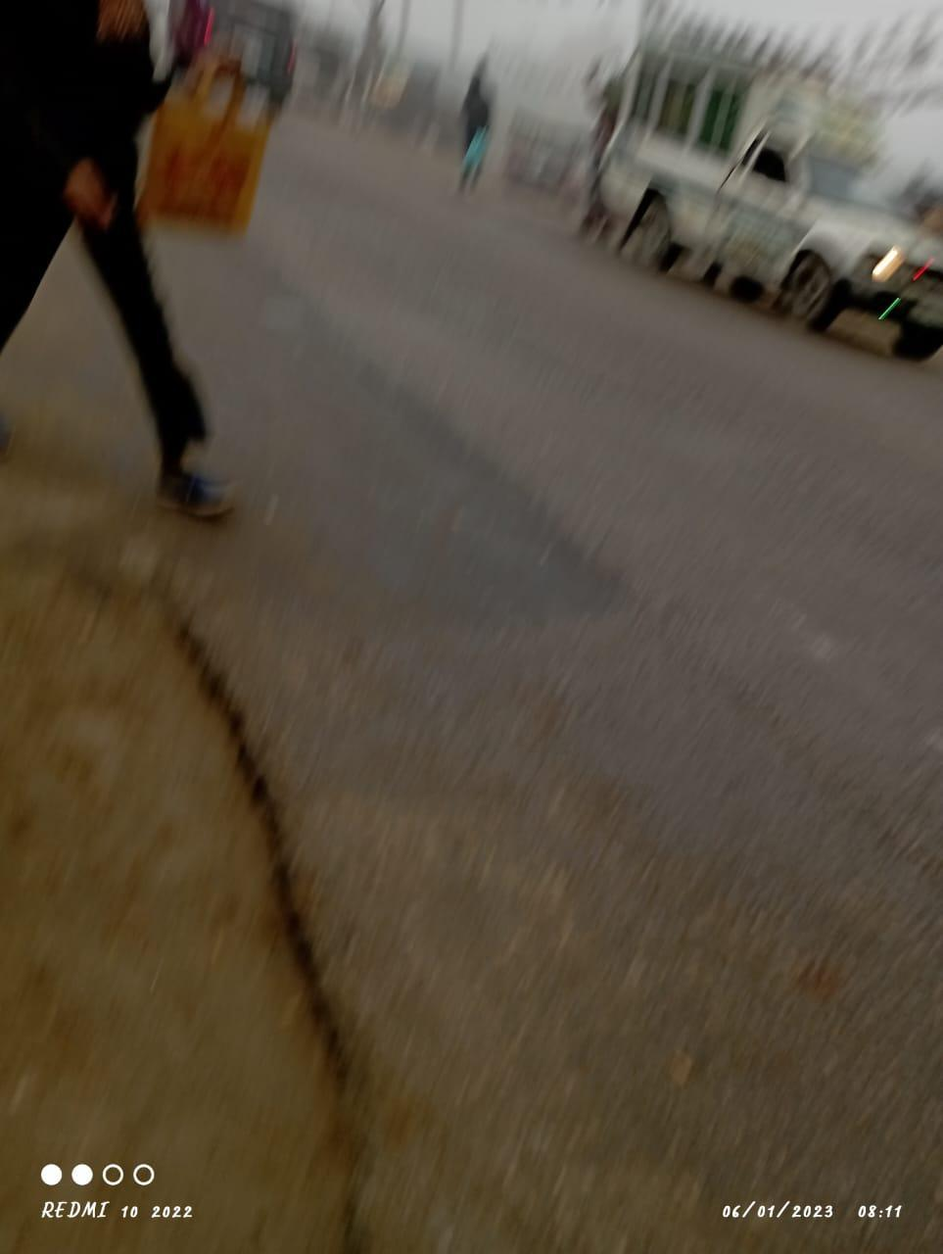Car: (597, 27, 941, 361)
